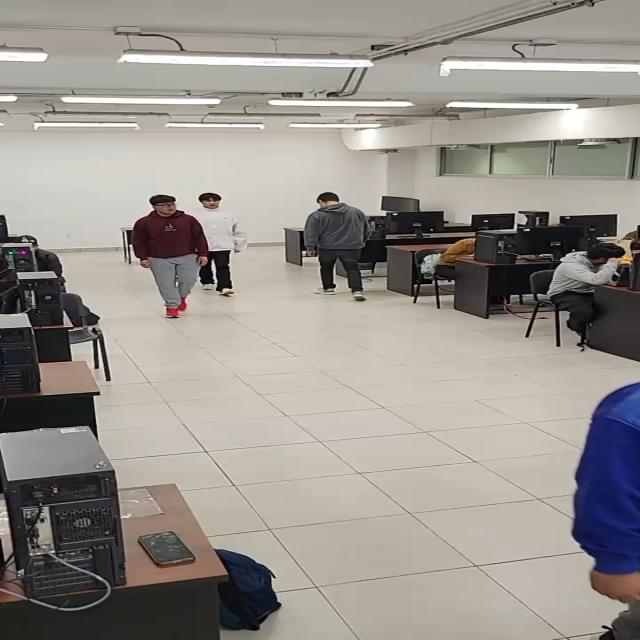Persona: (130, 194, 211, 320), (304, 192, 371, 301), (186, 192, 248, 296)
